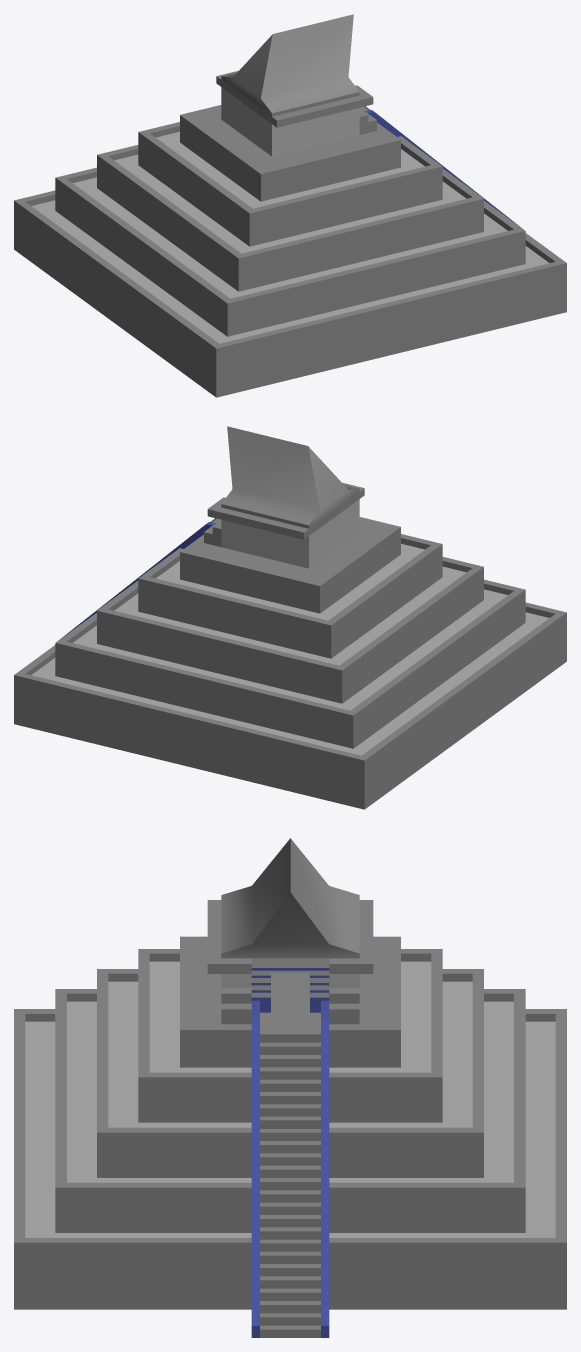
3 views of the same model, one above another, from view 1: azimuth 30°, elevation 25°; view 2: azimuth 150°, elevation 25°; view 3: azimuth 270°, elevation 25° (orthographic). The views are drawn at different scales.
Visible parts, largest first — view 1: Pyramid; view 2: Pyramid; view 3: Pyramid.
Boxes of the visible parts, bbox=[...] form: Pyramid: bbox=[14, 14, 566, 397]; Pyramid: bbox=[14, 426, 566, 809]; Pyramid: bbox=[14, 838, 566, 1337].
Bounding box in the file's own units: 5.89 × 3.59 × 5.25.
